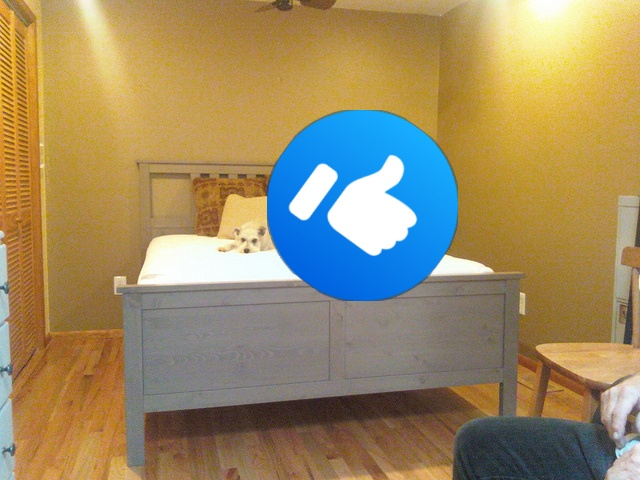like: (267, 110, 458, 301)
